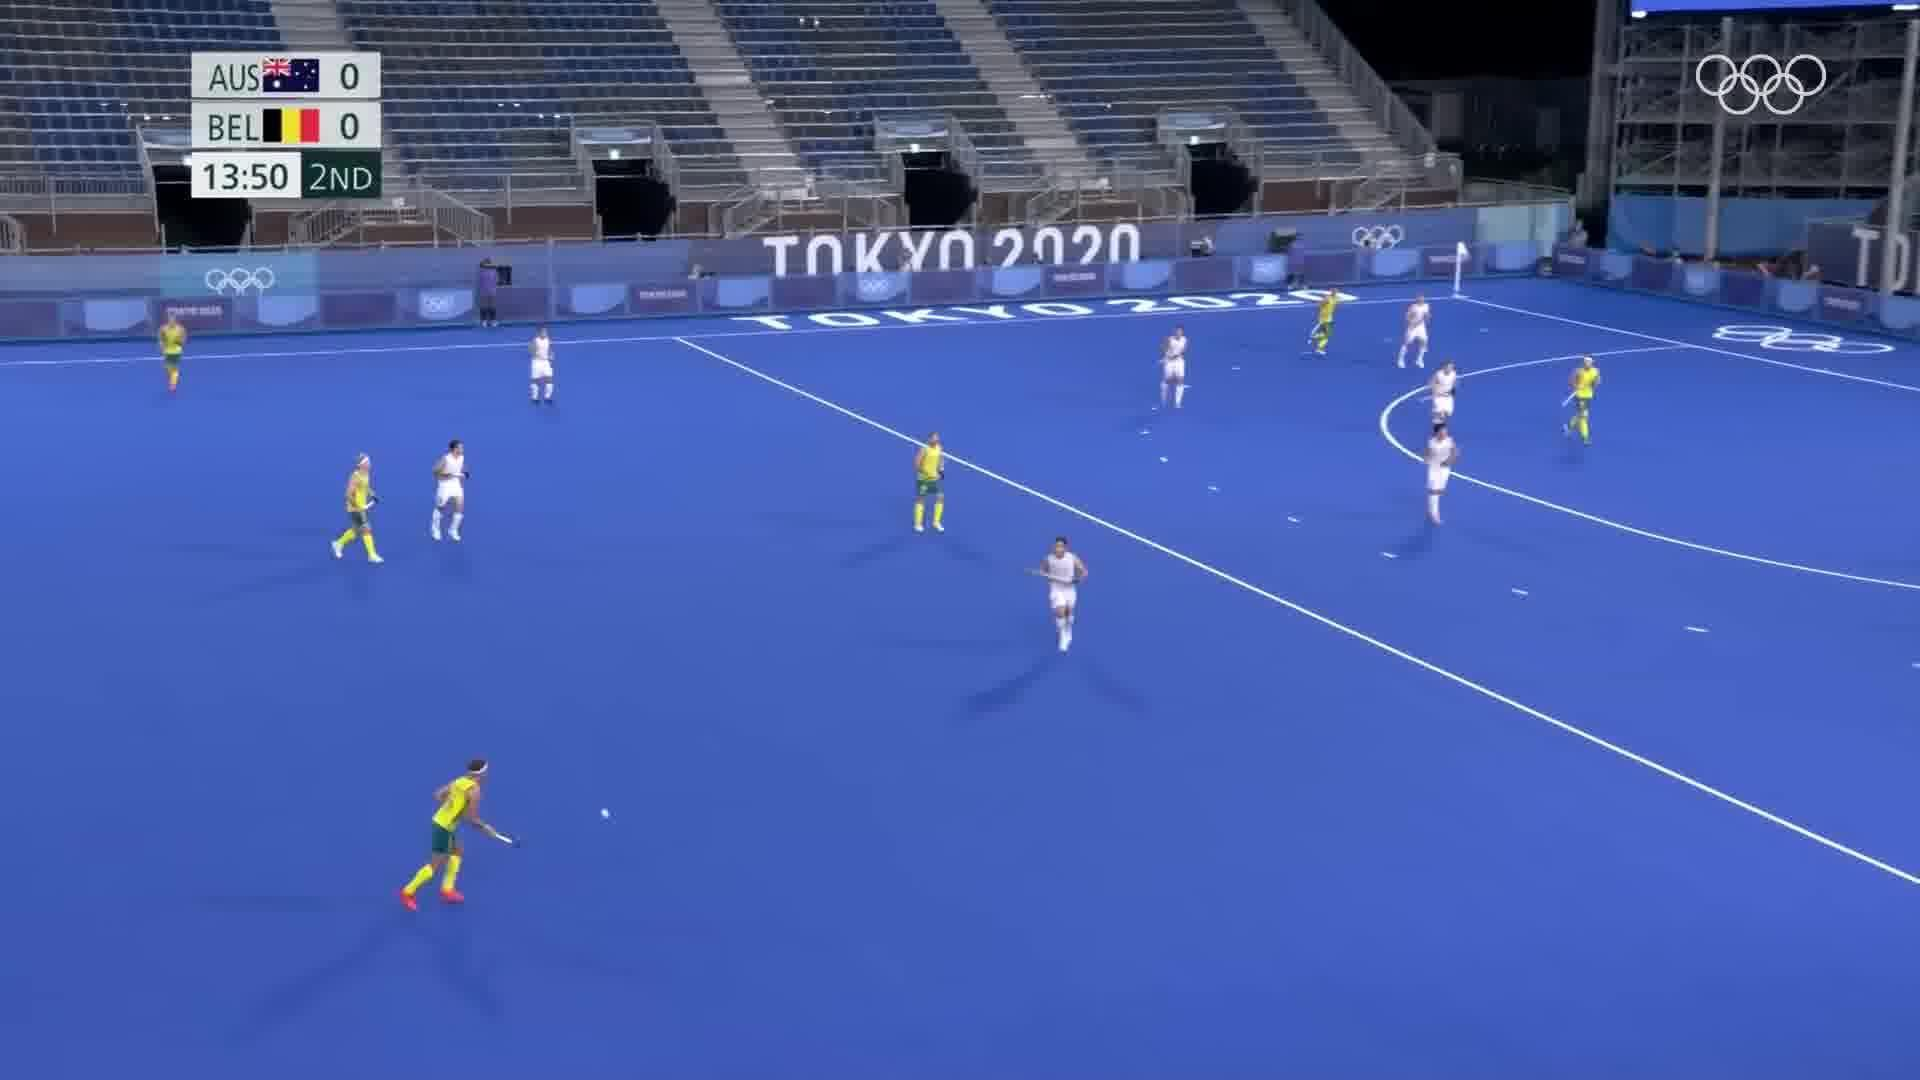ball: (596, 798, 617, 829)
